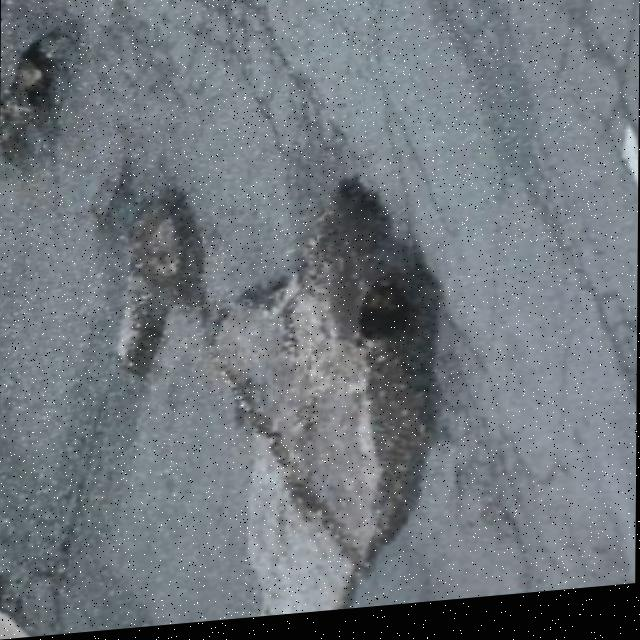Pothole: (119, 197, 198, 385), (331, 267, 442, 365), (0, 31, 81, 164)
